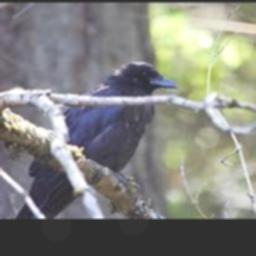Crow: (15, 61, 176, 219)
